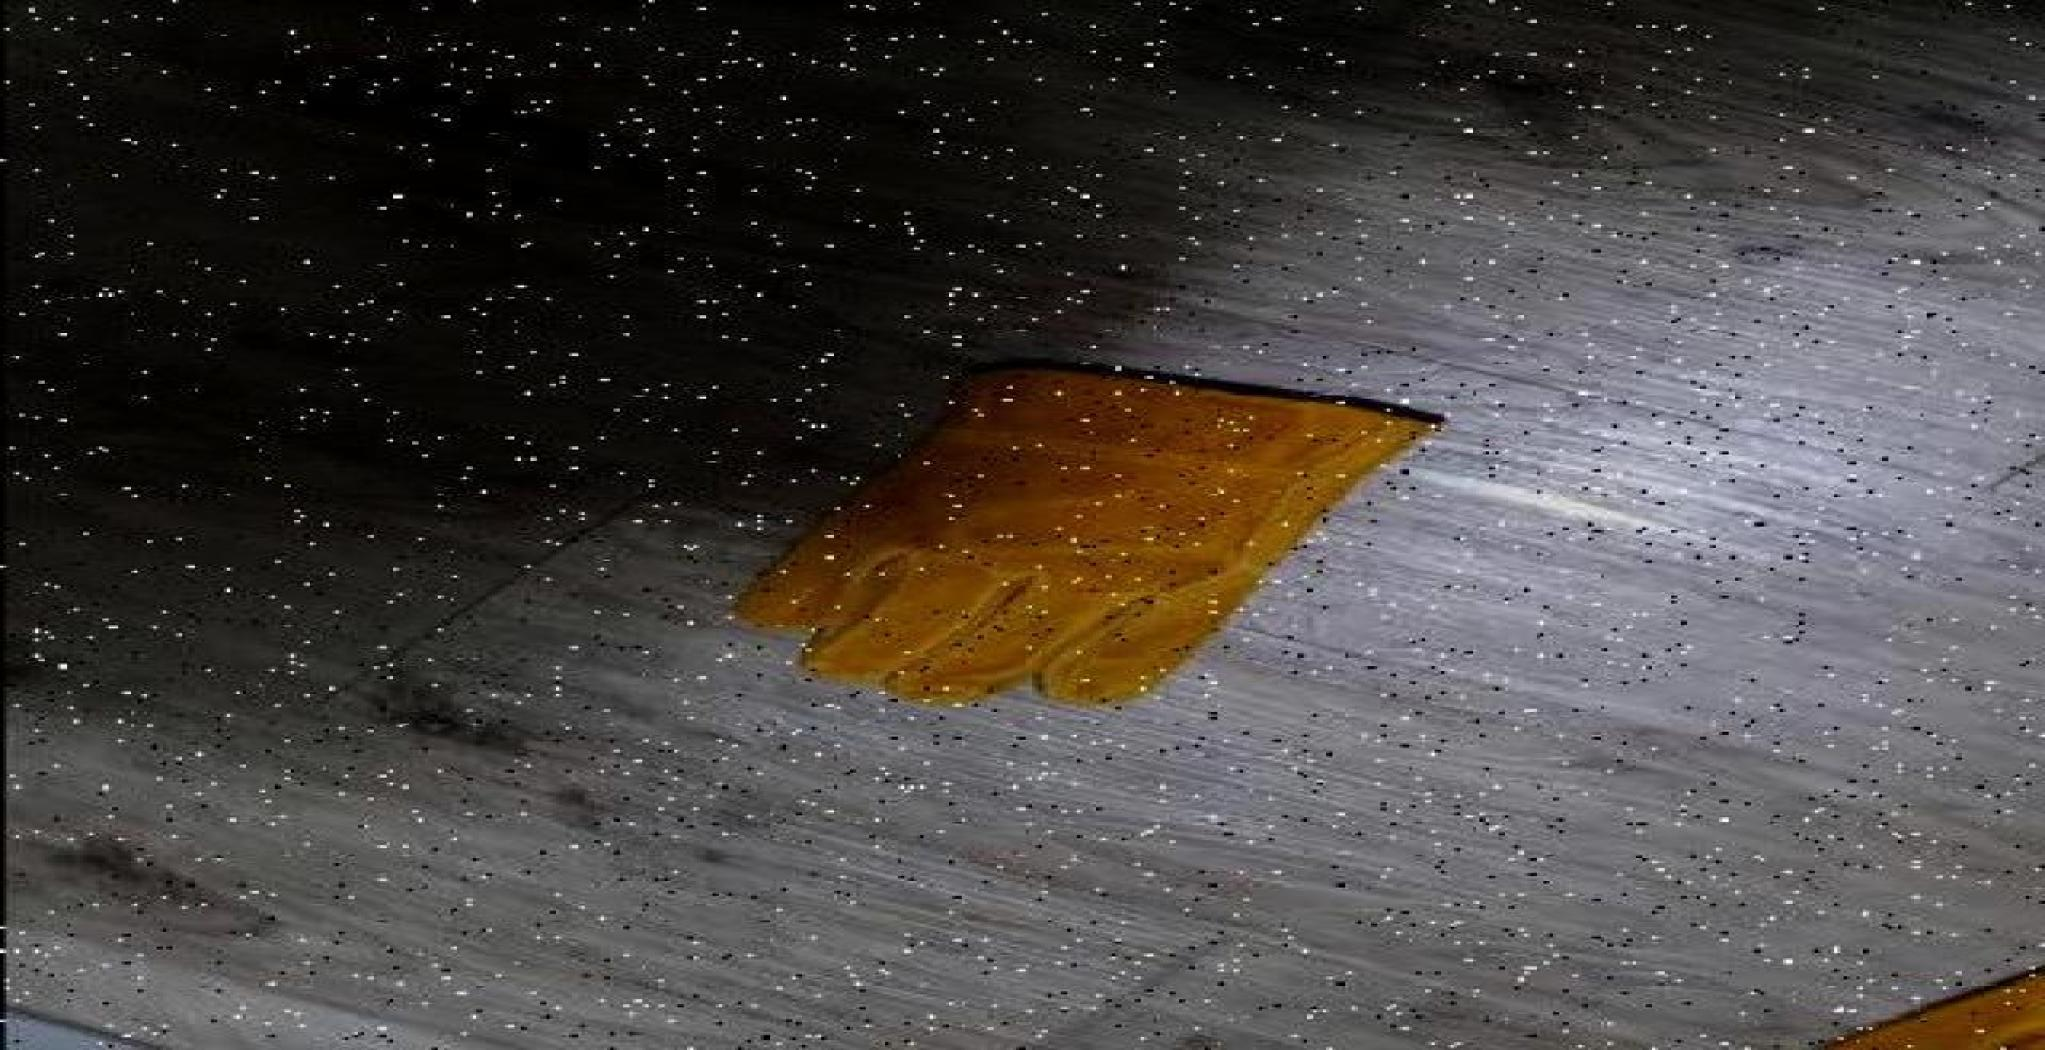gloved: (726, 356, 1448, 710)
